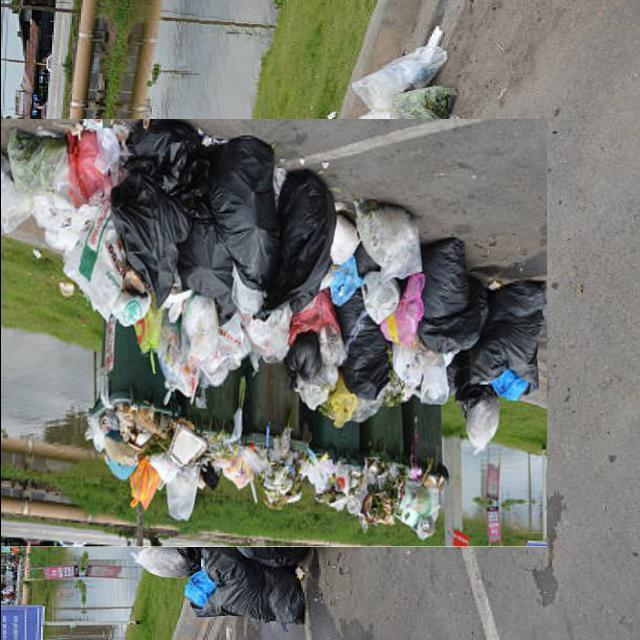Trashbag: (205, 140, 297, 274), (274, 170, 336, 310), (109, 182, 189, 281), (131, 125, 204, 192), (487, 288, 540, 368), (344, 329, 398, 403), (428, 244, 462, 318), (282, 334, 325, 379)
